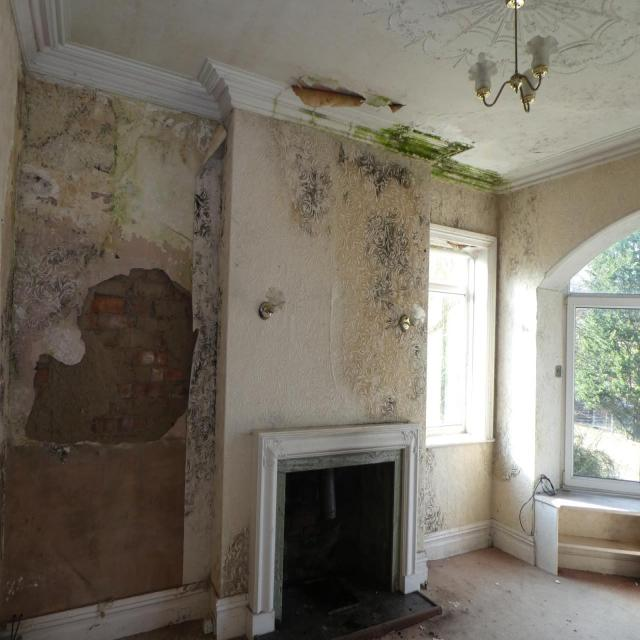damp: (211, 104, 427, 626), (4, 76, 208, 622), (16, 88, 130, 269), (336, 149, 422, 316), (22, 80, 118, 177), (538, 2, 632, 68), (192, 147, 223, 332), (407, 0, 498, 59), (344, 144, 412, 201), (498, 196, 540, 286), (291, 150, 334, 234), (431, 178, 493, 231), (193, 184, 215, 242)
